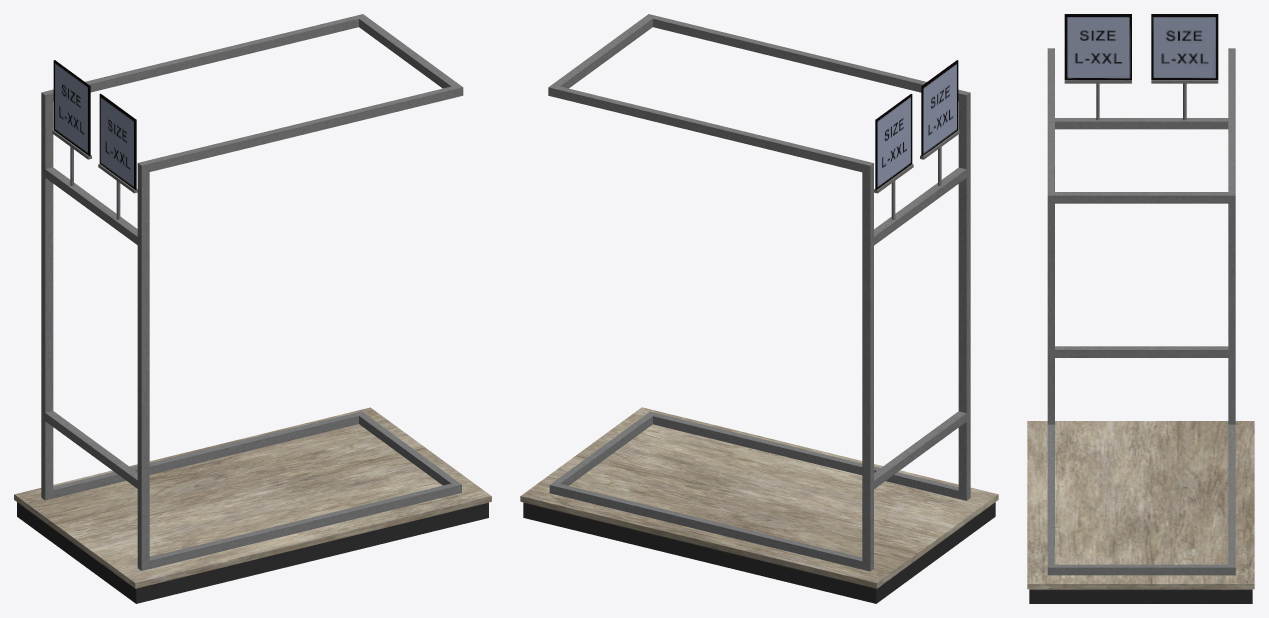
The model's file is SM_Hanger_02.glb.
3 views of the same model, side by side, from view 1: azimuth 30°, elevation 25°; view 2: azimuth 150°, elevation 25°; view 3: azimuth 270°, elevation 25° (orthographic). The views are drawn at different scales.
Visible parts, largest first — view 1: SM_Hanger_02; view 2: SM_Hanger_02; view 3: SM_Hanger_02.
Boxes of the visible parts, x1,y1,x2,y2 form: SM_Hanger_02: (14,14,491,603); SM_Hanger_02: (520,14,998,603); SM_Hanger_02: (1027,14,1254,603).
Bounding box in the file's own units: 1.34 × 1.67 × 0.787.
1 material, 1 textured.
